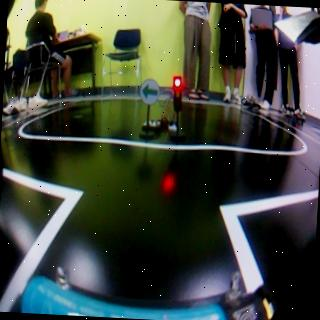left: (140, 82, 160, 104)
red: (169, 74, 184, 144)
